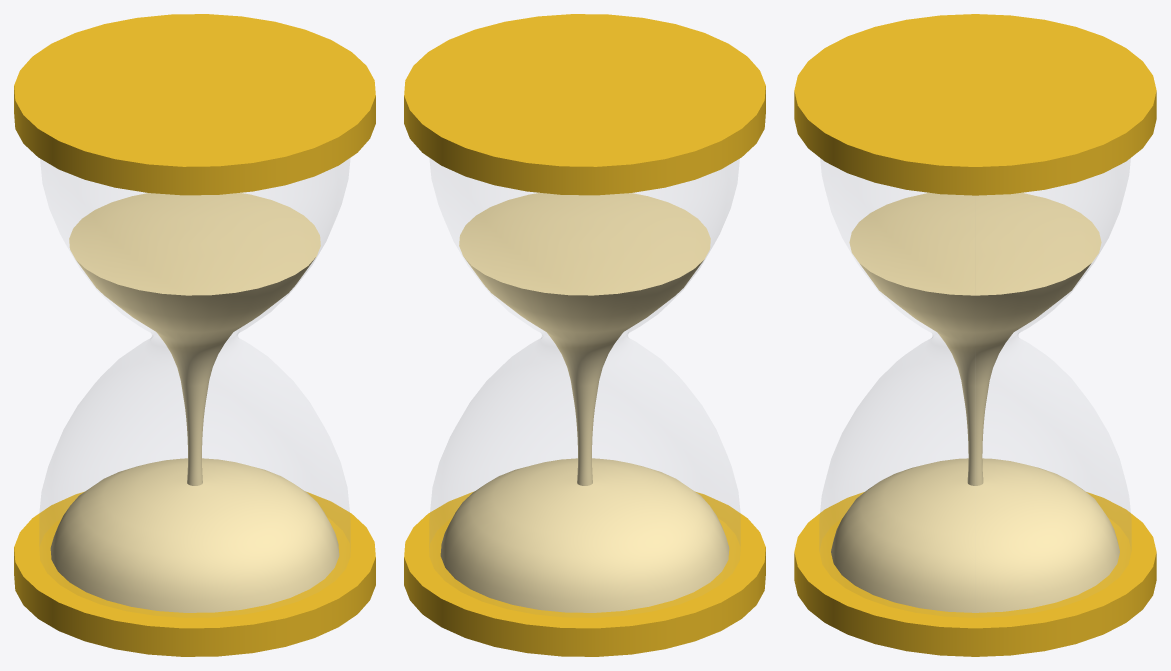
Rendered from hourglass_not_done.glb.
3 views of the same model, side by side, from view 1: azimuth 30°, elevation 25°; view 2: azimuth 150°, elevation 25°; view 3: azimuth 270°, elevation 25° (orthographic).
Parts seen in each view (by area): view 1: Cylinder.459; view 2: Cylinder.459; view 3: Cylinder.459.
Part boxes in pixels (x1,y1,x2,y2): Cylinder.459: (14,14,375,656); Cylinder.459: (404,14,765,656); Cylinder.459: (794,14,1156,656).
Bounding box in the file's own units: 1.39 × 2.08 × 1.39.
Materials: 2 (1 with a texture image).
